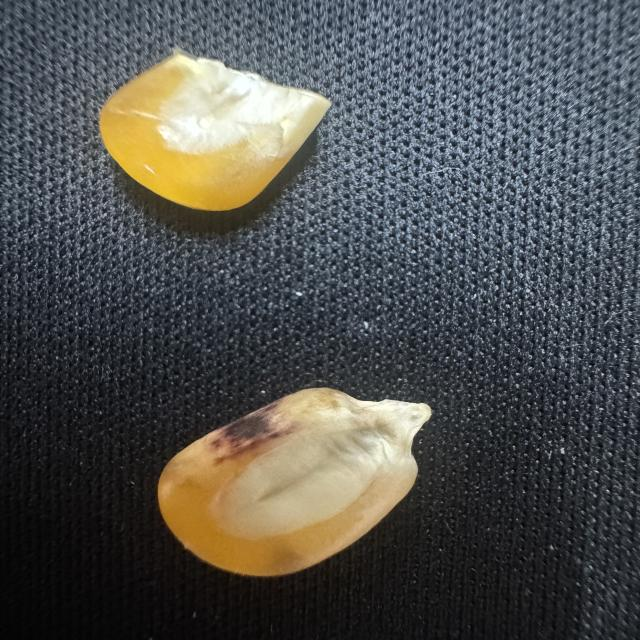Bad-Seed: (146, 370, 440, 586), (81, 42, 350, 229)
